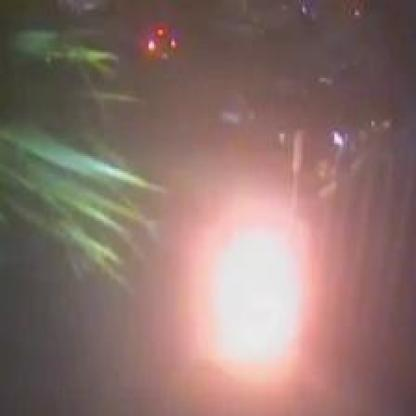fire: (190, 197, 322, 386)
